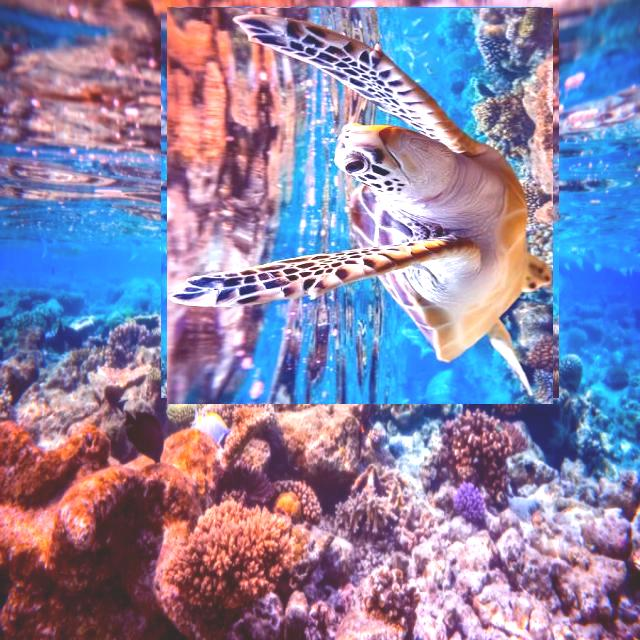Sea turtle: (164, 9, 556, 401)
